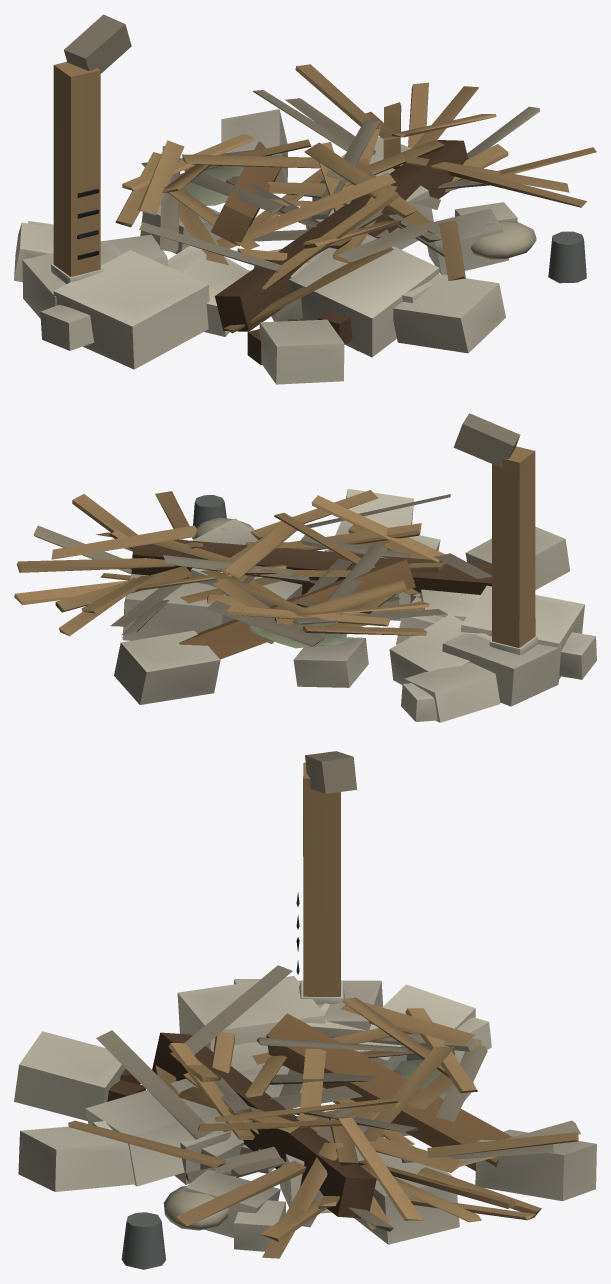
The model's file is gallery_collapse_a_lod2.glb.
3 renders of one model, top to bottom at view 1: azimuth 30°, elevation 25°; view 2: azimuth 150°, elevation 25°; view 3: azimuth 270°, elevation 25°, orthographic. The views are drawn at different scales.
Visible parts, largest first — view 1: Surface.001; view 2: Surface.001; view 3: Surface.001.
Boxes of the visible parts, left/top/right/bottom form: Surface.001: left=14, top=14, right=596, bottom=384; Surface.001: left=14, top=413, right=596, bottom=722; Surface.001: left=14, top=751, right=596, bottom=1269.
Size of the model in its own units: 7.81 by 3.97 by 6.54.
